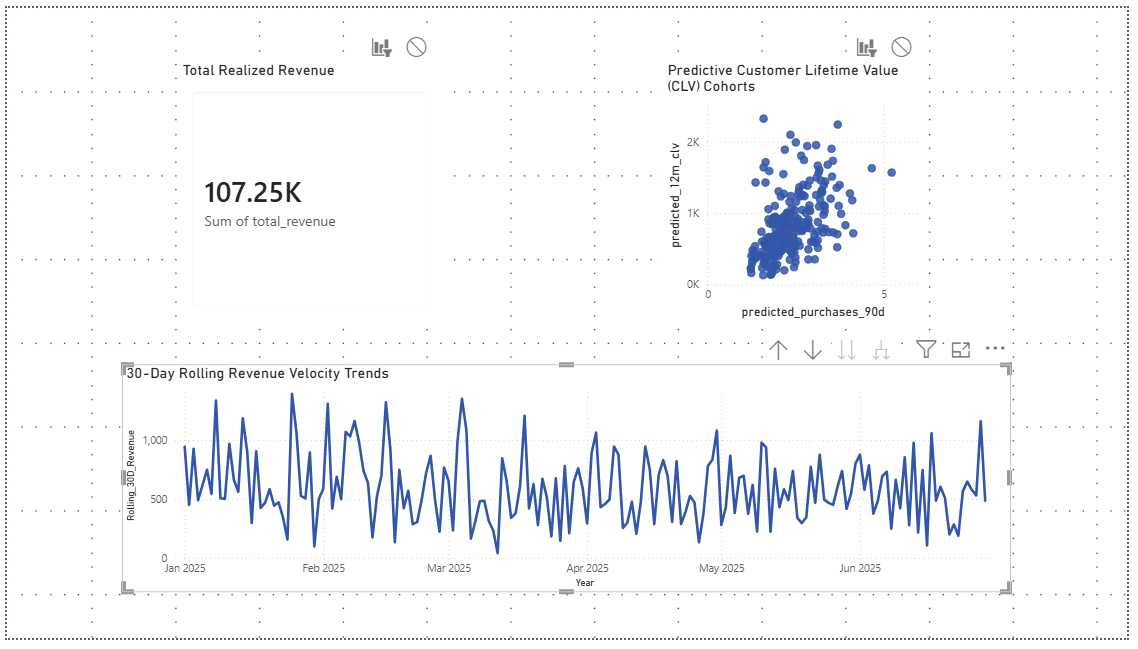

The page's visual inventory and layout, read from the dashboard file:
{"tool":"powerbi","page":{"name":"Page 1","canvas":[1280,720],"ordinal":0},"visuals":[{"type":"lineChart","title":"30-Day Rolling Revenue Velocity Trends","fields":{"Y":["fact_sales_transactions.Rolling_30D_Revenue"],"Category":["dim_calendar.Date.Variation.Date Hierarchy.Year","dim_calendar.Date.Variation.Date Hierarchy.Quarter","dim_calendar.Date.Variation.Date Hierarchy.Month","dim_calendar.Date.Variation.Date Hierarchy.Day"]},"box":[131.4,407.1,1015.7,261.4],"z":0},{"type":"cardVisual","title":"Total Realized Revenue","fields":{"Data":["Sum(fact_sales_transactions.total_revenue)"]},"box":[195.7,60,301.4,300],"z":1},{"type":"scatterChart","title":"Predictive Customer Lifetime Value (CLV) Cohorts","fields":{"Y":["dim_customers.predicted_12m_clv"],"X":["dim_customers.predicted_purchases_90d"]},"box":[750,60,301.4,300],"z":2}]}

Visuals, with their boxes in screenshot pixels (x1, y1, x2, y2), scaled from the page's 1280x720 canvas onto the 1138x649 screenshot:
"30-Day Rolling Revenue Velocity Trends" lineChart: x1=117 y1=367 x2=1020 y2=603
"Total Realized Revenue" cardVisual: x1=174 y1=54 x2=442 y2=324
"Predictive Customer Lifetime Value (CLV) Cohorts" scatterChart: x1=667 y1=54 x2=935 y2=324
